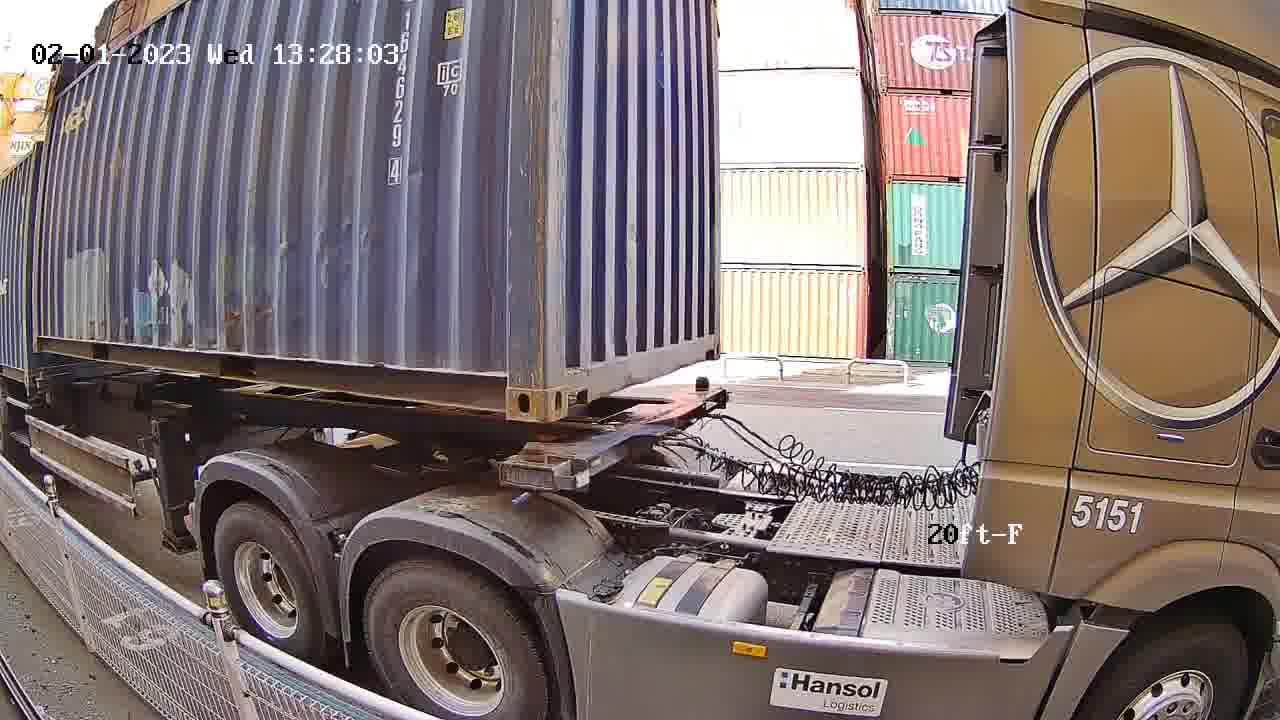Chassis: (502, 390, 723, 491)
Cone: (510, 439, 551, 501), (691, 375, 713, 395)
Hole_L: (545, 341, 592, 423)
Hole_R: (474, 345, 546, 423), (700, 323, 721, 361)
Tire: (365, 562, 549, 719), (215, 505, 322, 662)
